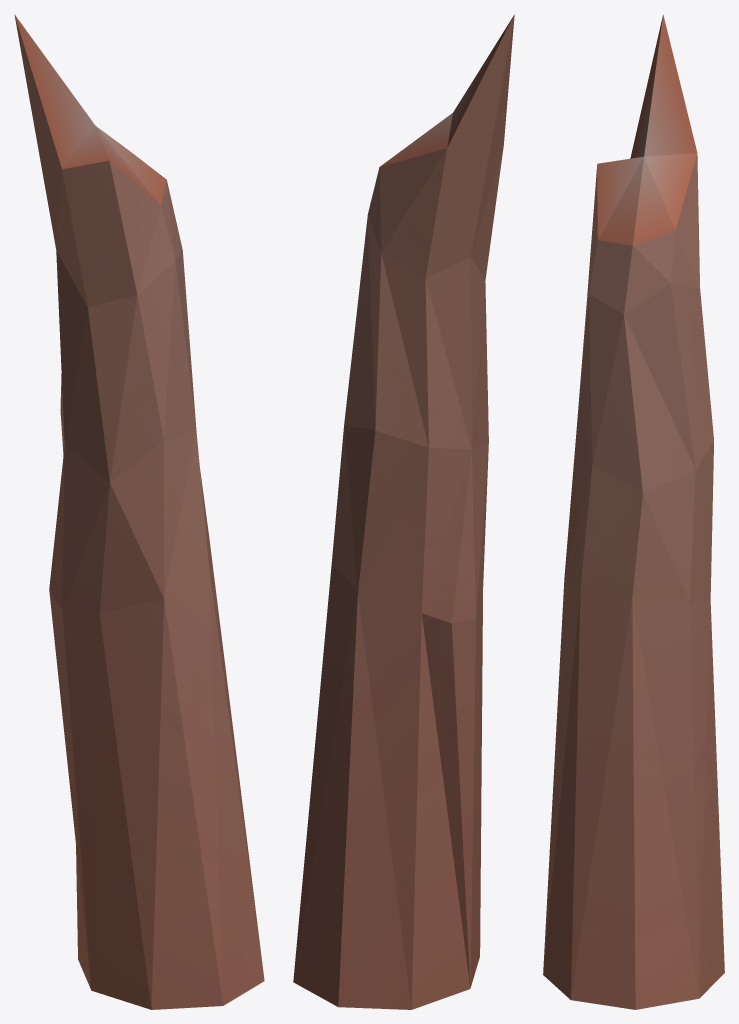
3 views of the same model, side by side, from view 1: azimuth 30°, elevation 25°; view 2: azimuth 150°, elevation 25°; view 3: azimuth 270°, elevation 25° (orthographic). The views are drawn at different scales.
Visible parts, largest first — view 1: PalmDead1; view 2: PalmDead1; view 3: PalmDead1.
Boxes of the visible parts, x1=… form: PalmDead1: x1=14, y1=14, x2=264, y2=1009; PalmDead1: x1=293, y1=14, x2=514, y2=1009; PalmDead1: x1=543, y1=14, x2=724, y2=1009.
Size of the model in its own units: 119 by 500 by 91.86.
Materials: 1 (1 with a texture image).
